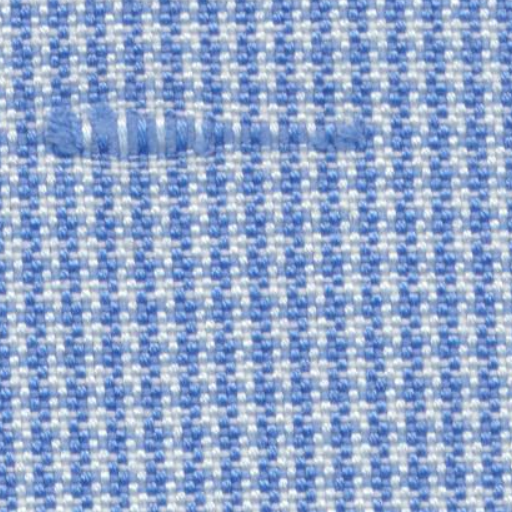DaiSha: (25, 90, 406, 172)
